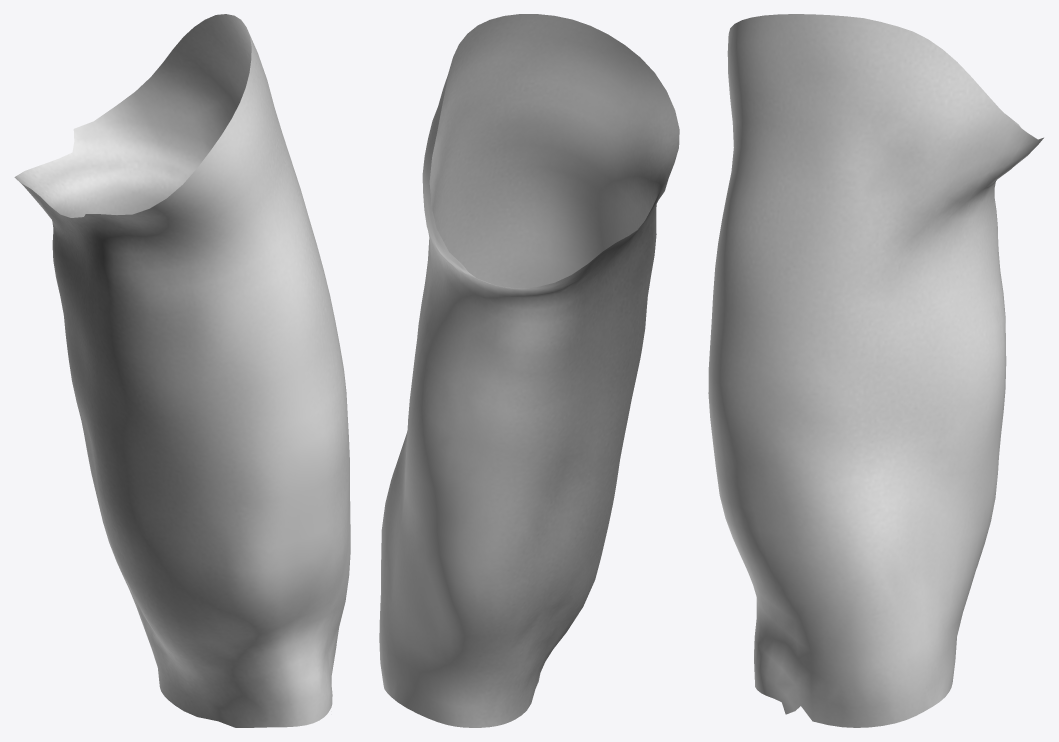
The model's file is piernaIzq.obj.
3 views of the same model, side by side, from view 1: azimuth 30°, elevation 25°; view 2: azimuth 150°, elevation 25°; view 3: azimuth 270°, elevation 25° (orthographic).
Visible parts, largest first — view 1: piernaIzq; view 2: piernaIzq; view 3: piernaIzq.
Part boxes in pixels (x1=…): piernaIzq: x1=14, y1=14, x2=350, y2=727; piernaIzq: x1=379, y1=14, x2=679, y2=727; piernaIzq: x1=708, y1=14, x2=1043, y2=727.
Size of the model in its own units: 0.0185 by 0.0453 by 0.0205.
Materials: 1 (1 with a texture image).
